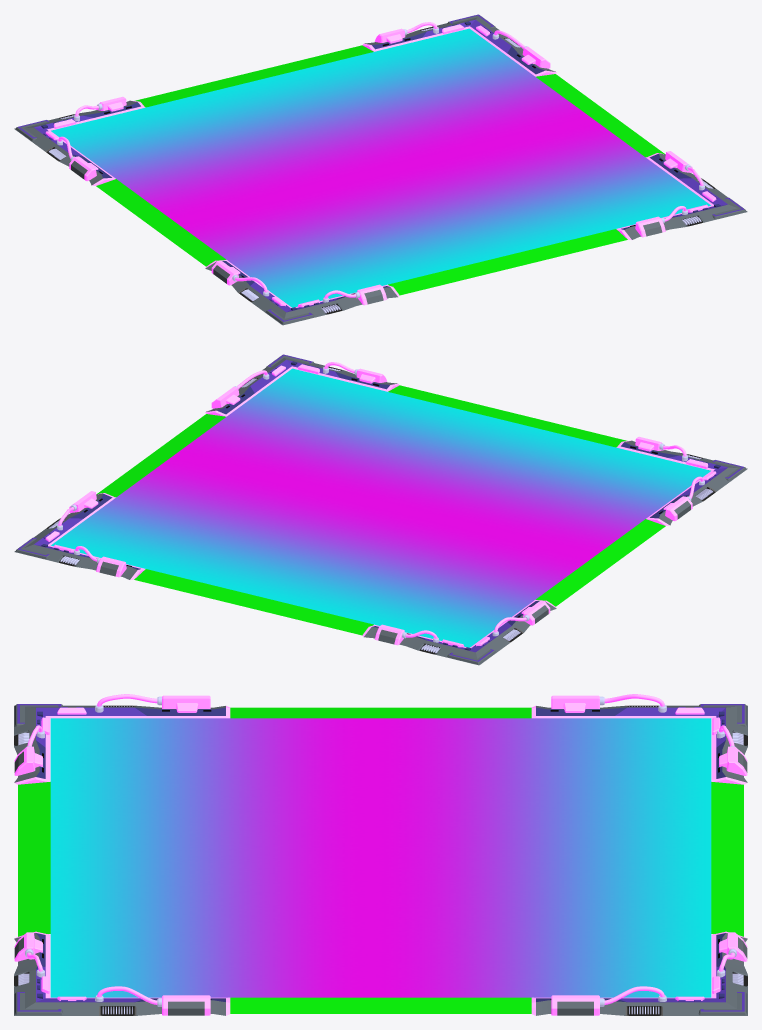
The model's file is NFT_basic_8x8.fbx.
The picture shows the model from 3 angles, top to bottom: view 1: azimuth 30°, elevation 25°; view 2: azimuth 150°, elevation 25°; view 3: azimuth 270°, elevation 25°; orthographic projection. The views are drawn at different scales.
Visible parts, largest first — view 1: _screen_low1, walkways, nft_frame3b_corner6 (×4); view 2: _screen_low1, walkways, nft_frame3b_corner6 (×4); view 3: _screen_low1, walkways, nft_frame3b_corner6 (×4), pCube237 (×4).
Part boxes in pixels (x1,y1,x2,y2): _screen_low1: [51, 28, 710, 307]; walkways: [96, 45, 665, 295]; nft_frame3b_corner6 (×4): [14, 17, 747, 325]; _screen_low1: [51, 368, 710, 647]; walkways: [96, 385, 665, 635]; nft_frame3b_corner6 (×4): [14, 357, 747, 665]; _screen_low1: [50, 718, 711, 997]; walkways: [18, 707, 743, 1013]; nft_frame3b_corner6 (×4): [14, 705, 747, 1015]; pCube237 (×4): [162, 695, 599, 1015].
Size of the model in its own units: 315 by 9.59 by 315.
10 materials, 1 textured.
